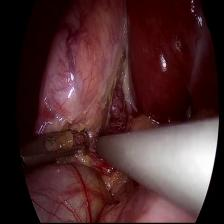Grasper: (27, 120, 91, 170)
Irrigator: (94, 132, 113, 168)
